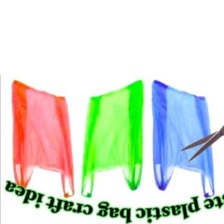plastic_bag: (6, 75, 77, 199), (149, 78, 219, 200), (77, 77, 145, 200)
